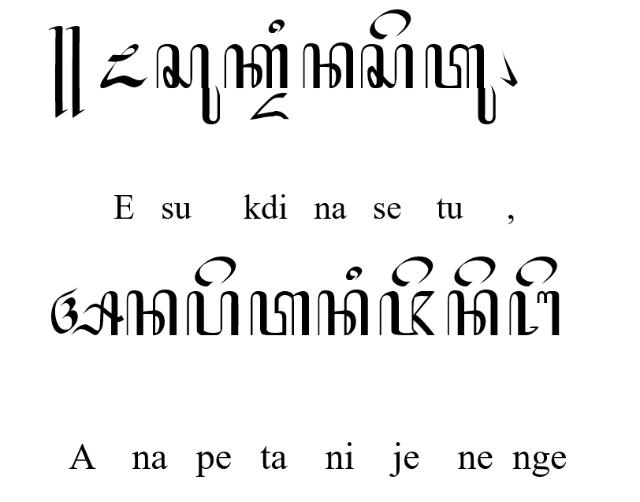A: (49, 287, 124, 337)
E: (100, 44, 148, 88)
_d: (250, 92, 288, 120)
adeg2: (48, 25, 86, 119)
e: (370, 8, 412, 40), (194, 256, 236, 288), (454, 256, 496, 288), (391, 256, 433, 287), (515, 256, 557, 286)
i: (345, 266, 363, 282), (269, 18, 285, 34)
j: (378, 290, 436, 338)
k: (224, 43, 288, 90)
kom: (499, 50, 518, 86)
n: (302, 41, 354, 89), (317, 290, 369, 336), (447, 290, 499, 336), (126, 290, 176, 336)
nga: (508, 291, 560, 337)
p: (186, 292, 238, 336)
s: (360, 43, 414, 88)
su: (156, 43, 220, 124)
t: (250, 292, 310, 336)
tu: (424, 45, 496, 125)
